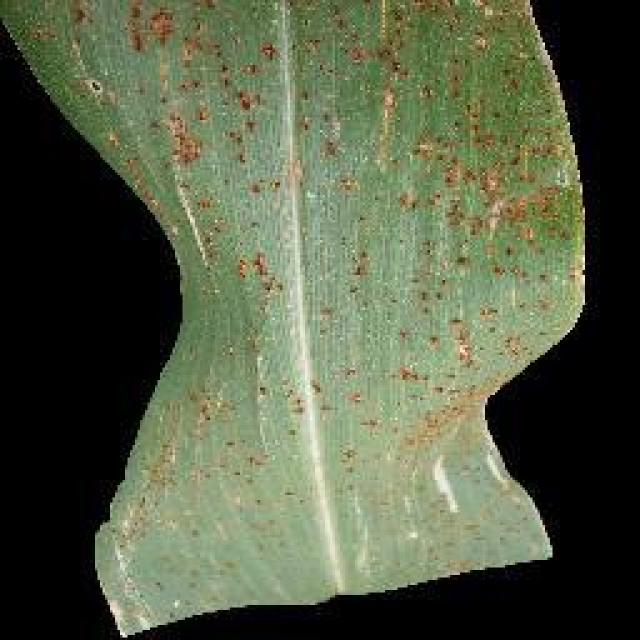Corn Common Rust: (118, 69, 520, 494)
